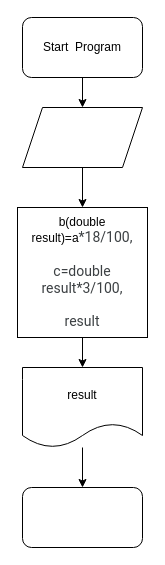
Some shapes in this 165 by 565 pixel diagram are drawn without their labels. The shapes that lost their labels are listed below. From the top down, each one's centre as x and y in pixels, then its label:
the point at 82,137: a=45565, b, c, result
the point at 82,517: End Program
